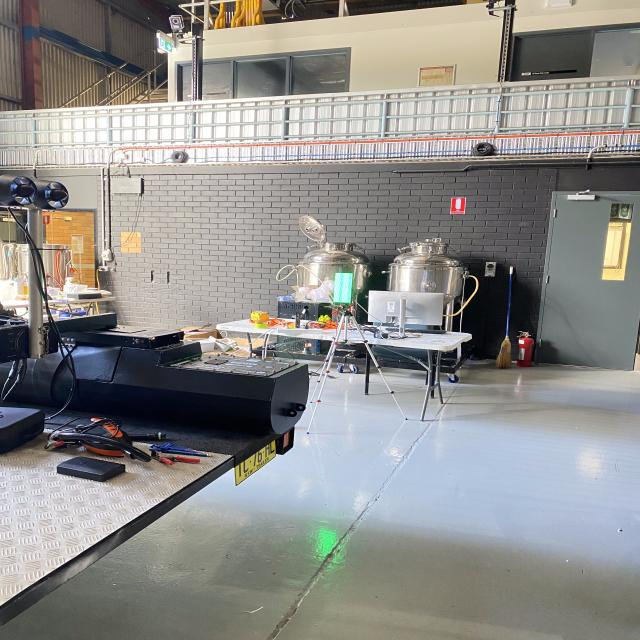matrix: (329, 268, 357, 311)
